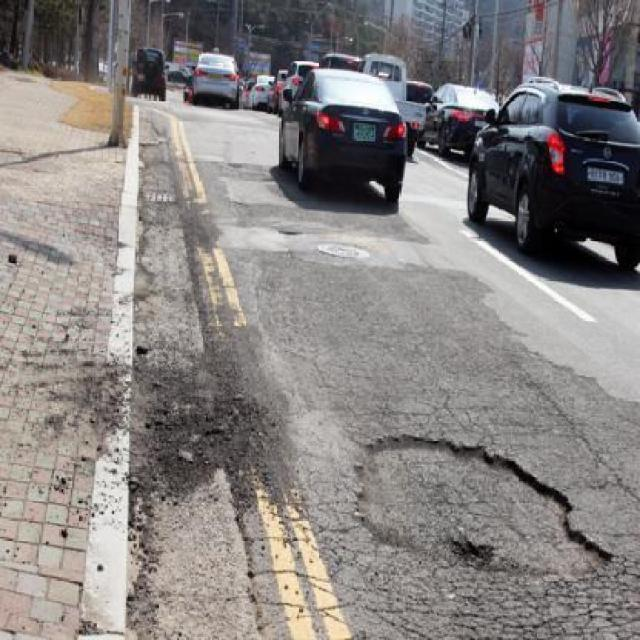pothole: (346, 423, 611, 588)
